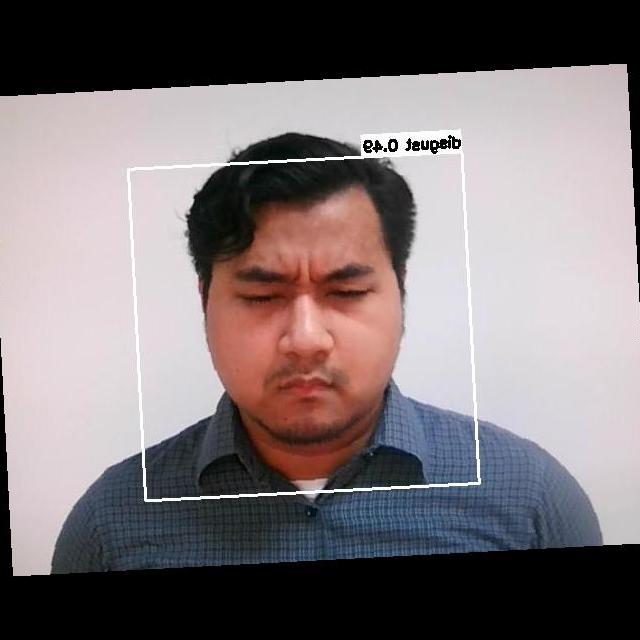Angry: (205, 235, 405, 422)
